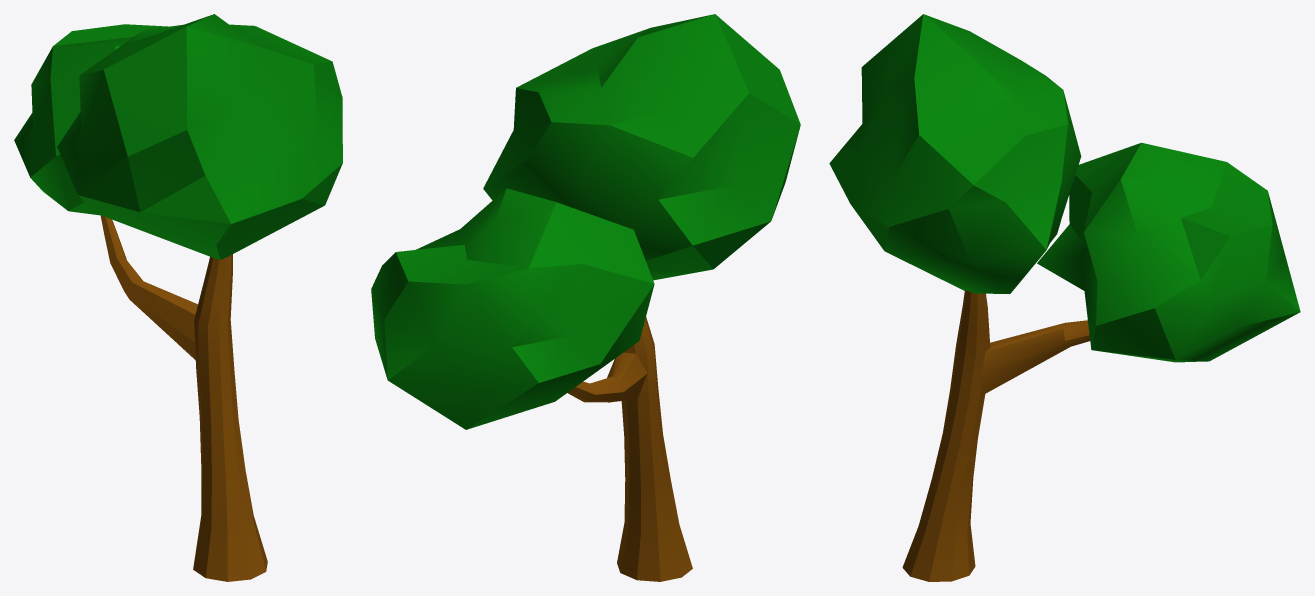
The model's file is tree.fbx.
3 renders of one model, left to right at view 1: azimuth 30°, elevation 25°; view 2: azimuth 150°, elevation 25°; view 3: azimuth 270°, elevation 25°, orthographic. The views are drawn at different scales.
Visible parts, largest first — view 1: Cylinder.004; view 2: Cylinder.004; view 3: Cylinder.004.
Part boxes in pixels (x1,y1,x2,y2): Cylinder.004: [14, 14, 342, 581]; Cylinder.004: [371, 14, 800, 581]; Cylinder.004: [829, 14, 1300, 581].
Size of the model in its own units: 983 by 1833 by 1480.
1 material, 1 textured.
